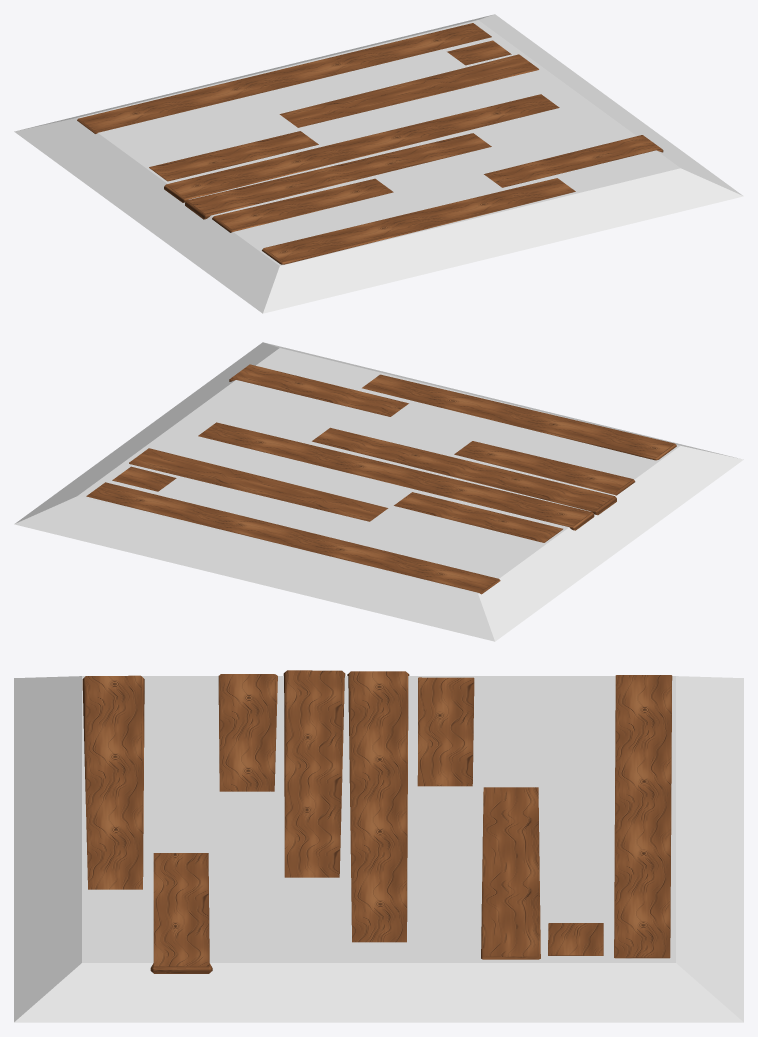
The model's file is SM_Forge_Deck.fbx.
The picture shows the model from 3 angles, top to bottom: view 1: azimuth 30°, elevation 25°; view 2: azimuth 150°, elevation 25°; view 3: azimuth 270°, elevation 25°; orthographic projection. The views are drawn at different scales.
Parts seen in each view (by area): view 1: ForgeDeck_Col0, ForgeDeck_Body; view 2: ForgeDeck_Col0, ForgeDeck_Body; view 3: ForgeDeck_Col0, ForgeDeck_Body.
Boxes of the visible parts, left/top/right/bottom form: ForgeDeck_Col0: left=14, top=14, right=743, bottom=313; ForgeDeck_Body: left=77, top=23, right=663, bottom=264; ForgeDeck_Col0: left=14, top=342, right=743, bottom=641; ForgeDeck_Body: left=86, top=364, right=676, bottom=594; ForgeDeck_Col0: left=14, top=676, right=743, bottom=1022; ForgeDeck_Body: left=82, top=670, right=672, bottom=973.
Bounding box in the file's own units: 19.2 × 0.9239 × 17.2.
